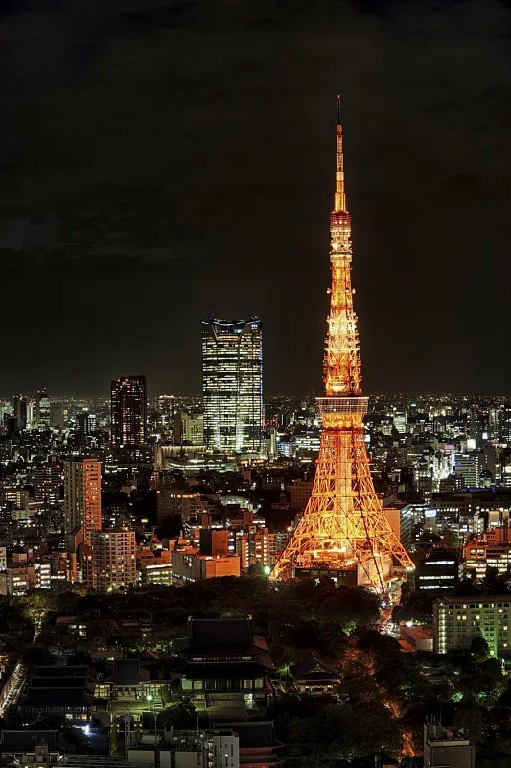Tokyo: (266, 88, 420, 588)
